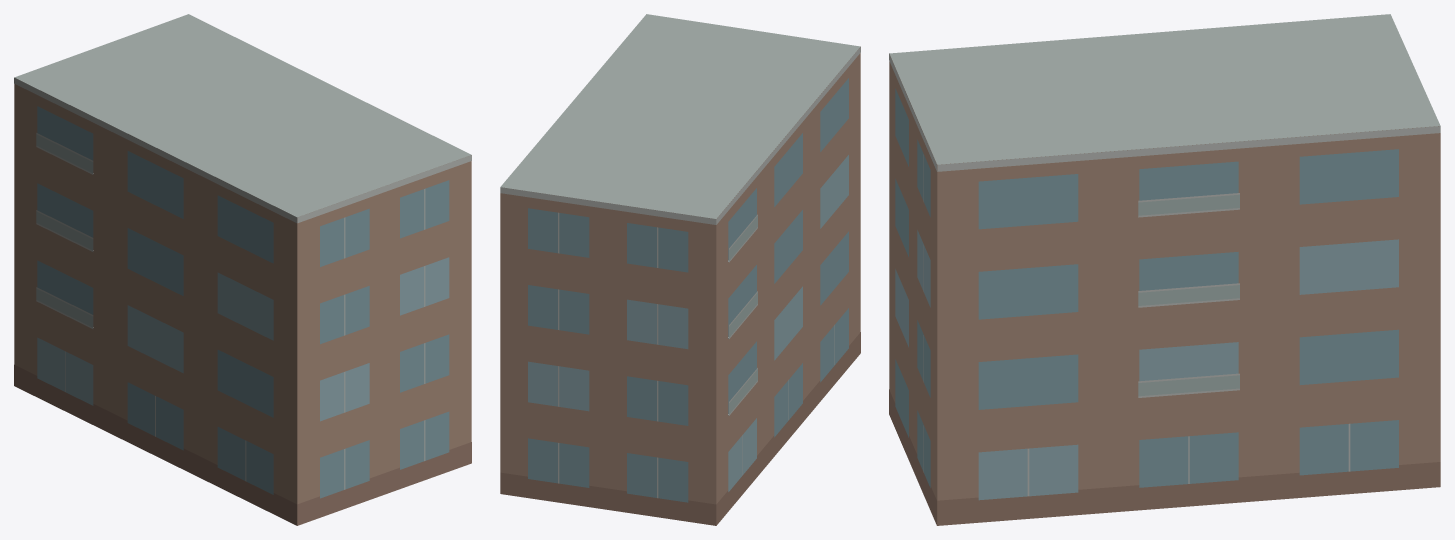
File: survey-upis-32843795.glb
The picture shows the model from 3 angles, left to right: view 1: azimuth 30°, elevation 25°; view 2: azimuth 150°, elevation 25°; view 3: azimuth 270°, elevation 25°; orthographic projection. The views are drawn at different scales.
Parts seen in each view (by area): view 1: survey-upis-32843795.tmp; view 2: survey-upis-32843795.tmp; view 3: survey-upis-32843795.tmp.
Part boxes in pixels (x1,y1,x2,y2): survey-upis-32843795.tmp: [14, 14, 471, 525]; survey-upis-32843795.tmp: [500, 14, 860, 525]; survey-upis-32843795.tmp: [889, 14, 1440, 525].
Size of the model in its own units: 11.11 by 12.4 by 17.17.
